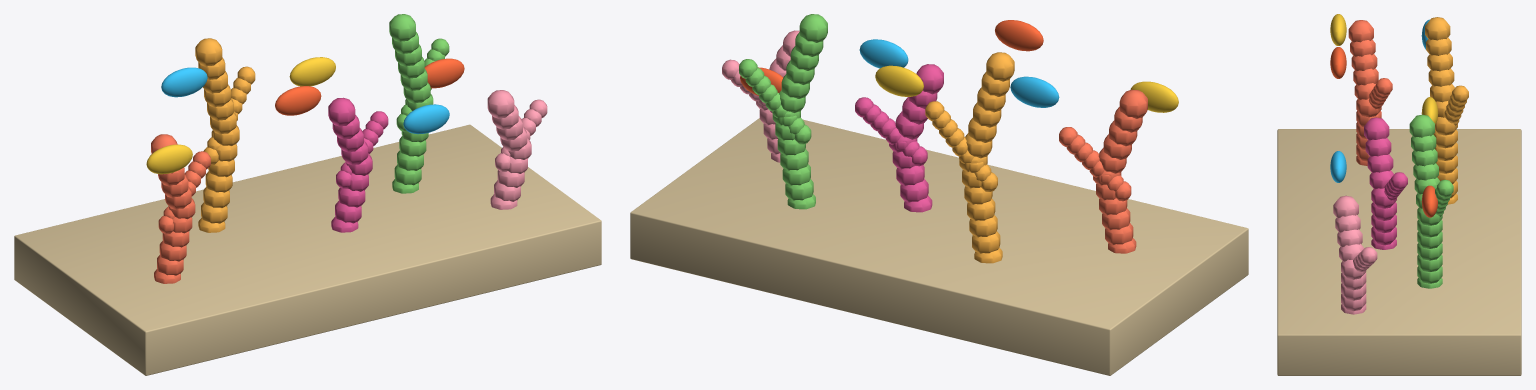
File: recife_coral.glb
3 renders of one model, left to right at view 1: azimuth 30°, elevation 25°; view 2: azimuth 150°, elevation 25°; view 3: azimuth 270°, elevation 25°, orthographic. The views are drawn at different scales.
Visible parts, largest first — view 1: recife_coral; view 2: recife_coral; view 3: recife_coral.
Part boxes in pixels (x1=…): recife_coral: x1=14, y1=14, x2=601, y2=375; recife_coral: x1=630, y1=14, x2=1248, y2=375; recife_coral: x1=1277, y1=14, x2=1521, y2=375.
Bounding box in the file's own units: 3.2 × 1.59 × 1.6.
